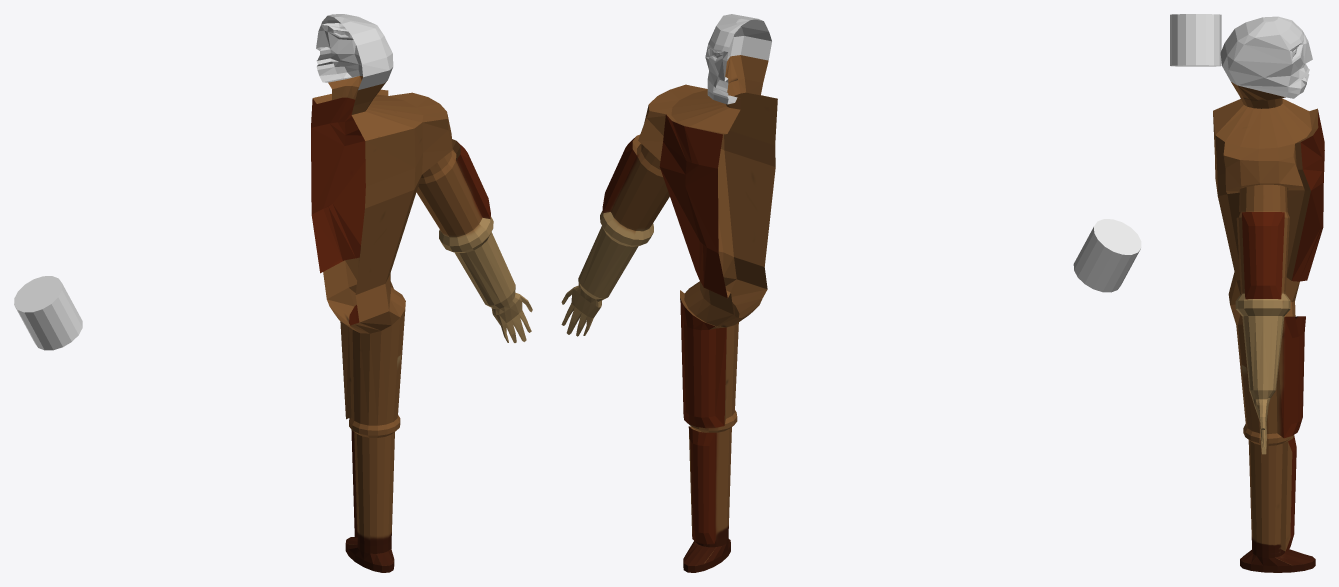
File: rogue1.dae
The picture shows the model from 3 angles, left to right: view 1: azimuth 30°, elevation 25°; view 2: azimuth 150°, elevation 25°; view 3: azimuth 270°, elevation 25°; orthographic projection. The views are drawn at different scales.
Parts seen in each view (by area): view 1: Cylinder, Cylinder_001; view 2: Cylinder, Cylinder_001; view 3: Cylinder, Cylinder_001.
Boxes of the visible parts, left/top/right/bottom form: Cylinder: left=311, top=14, right=532, bottom=572; Cylinder_001: left=14, top=276, right=82, bottom=350; Cylinder: left=561, top=14, right=777, bottom=572; Cylinder_001: left=1073, top=219, right=1141, bottom=292; Cylinder: left=1213, top=16, right=1324, bottom=572; Cylinder_001: left=1170, top=14, right=1221, bottom=66.
Size of the model in its own units: 12.71 by 3.2 by 12.15.
